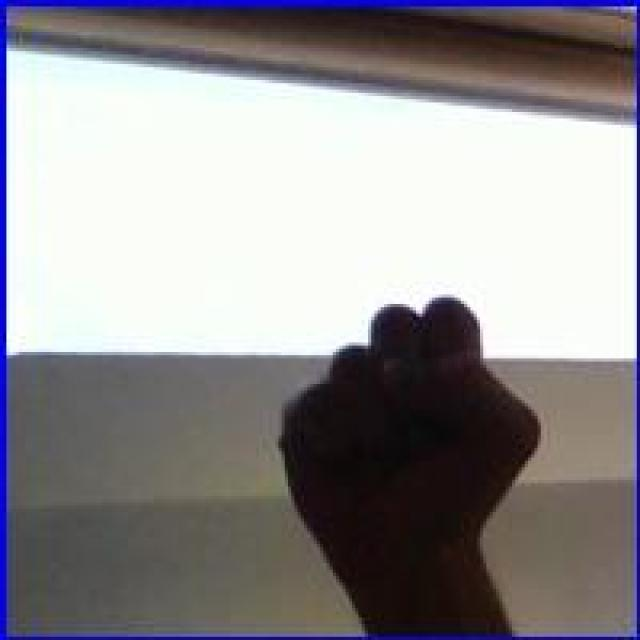S: (270, 294, 546, 541)
